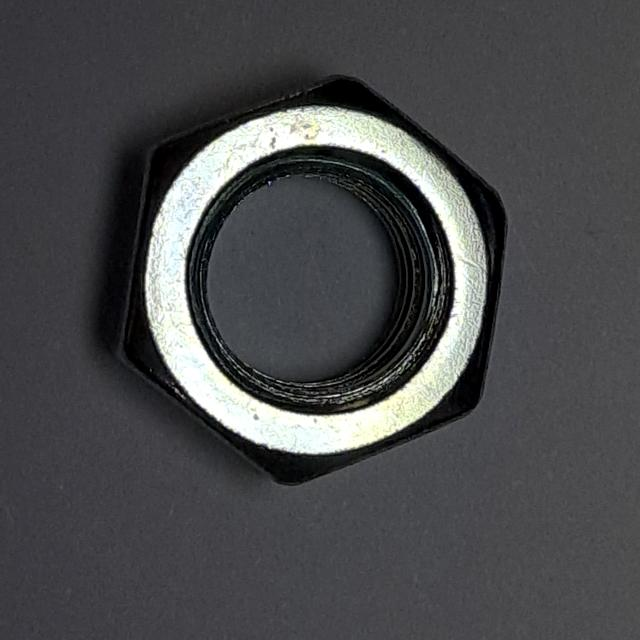Excellent: (97, 69, 521, 495)
